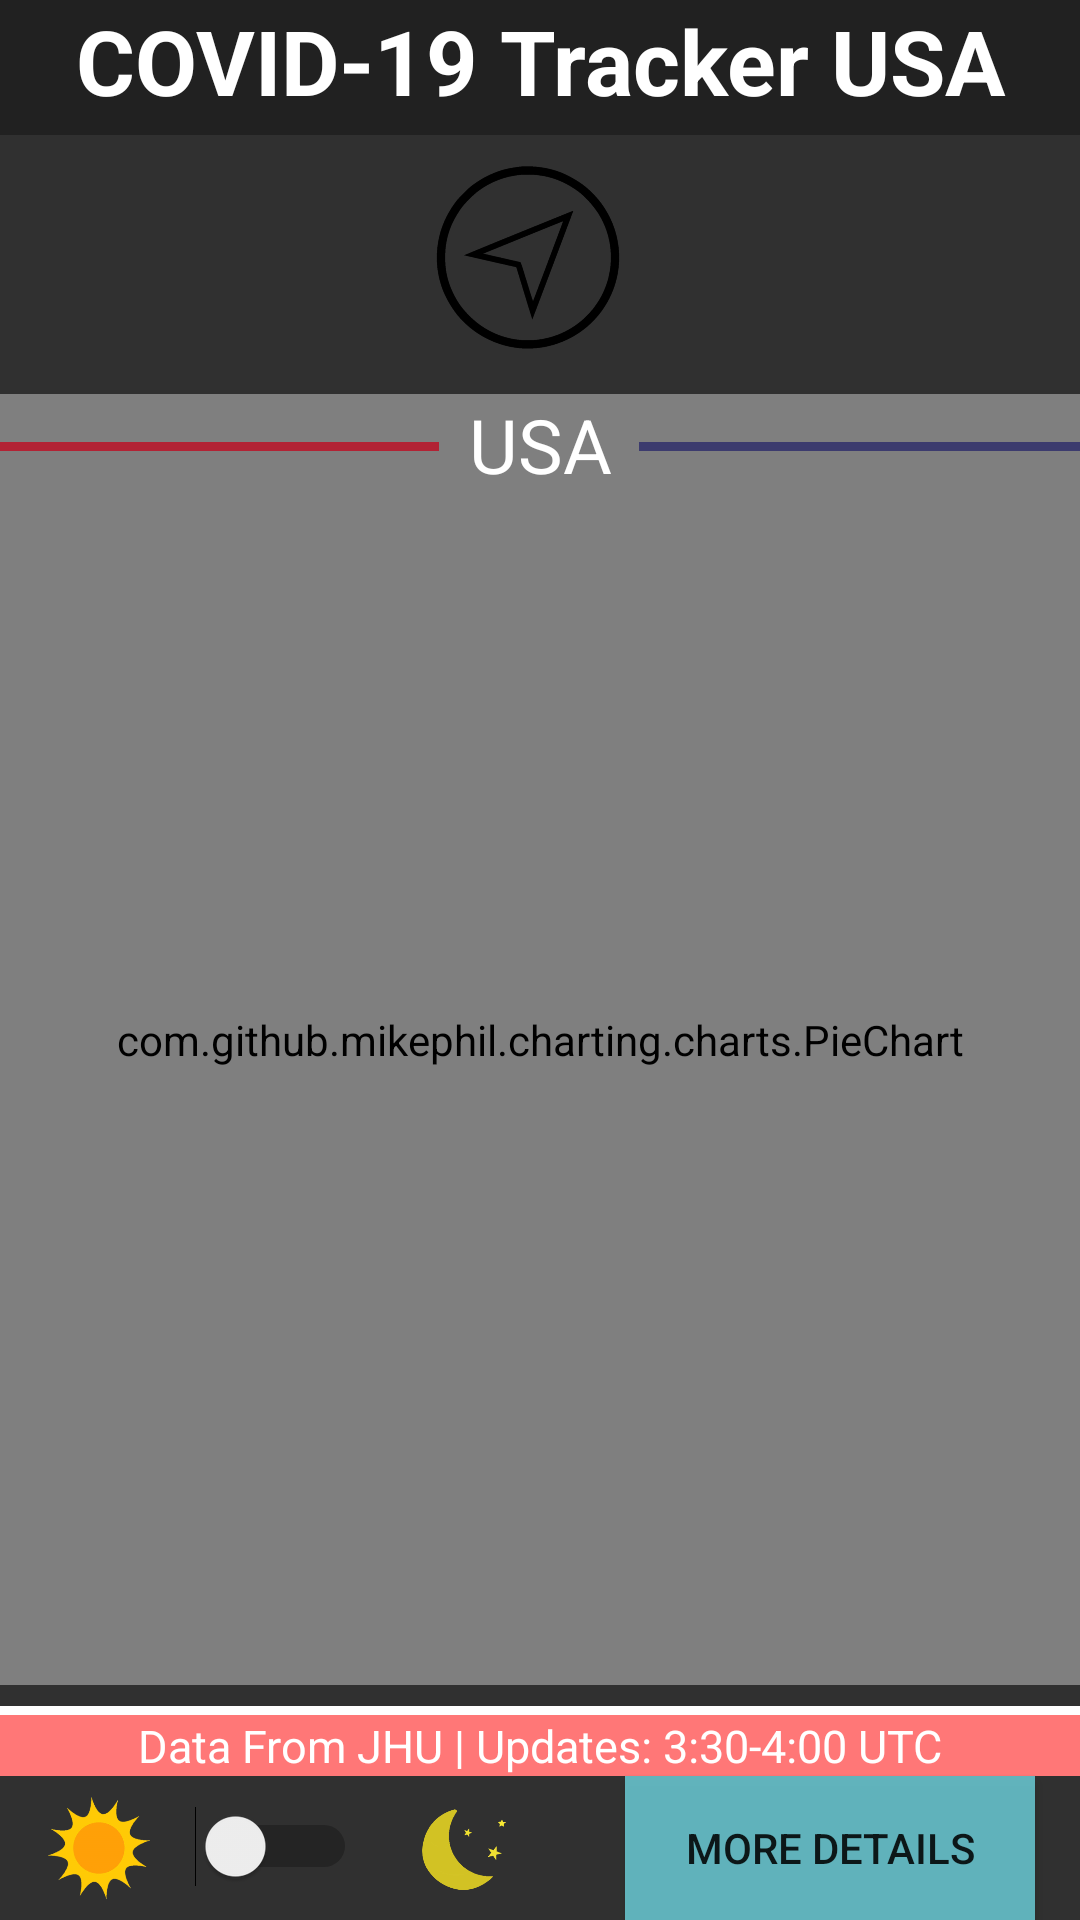

Screen size 1080px x 1920px. Icon name, then its center in pixels as (x,y):
day: (99,1848)
getlocationlight: (528,257)
night: (464,1849)
